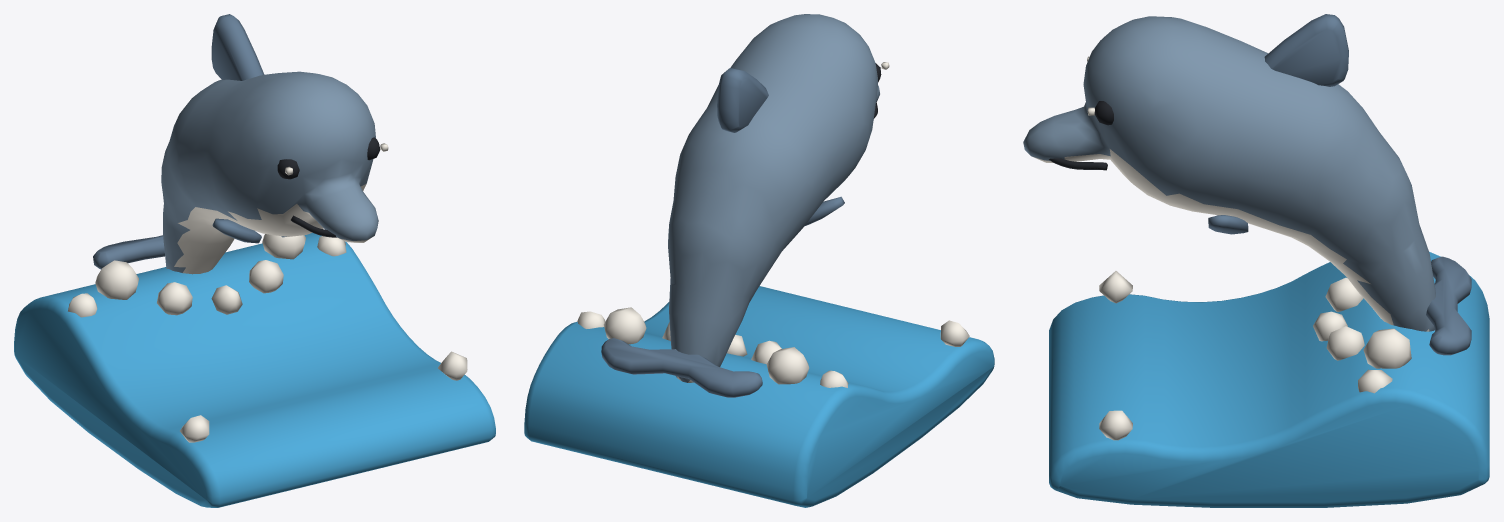
Rendered from jumping-dolphin-pet.glb.
3 views of the same model, side by side, from view 1: azimuth 30°, elevation 25°; view 2: azimuth 150°, elevation 25°; view 3: azimuth 270°, elevation 25° (orthographic). The views are drawn at different scales.
Visible parts, largest first — view 1: Wave_Base, Dolphin_Body, Wave_Foam, Dolphin_DorsalFin, Dolphin_Flukes, Dolphin_Flipper_L; view 2: Wave_Base, Dolphin_Body, Wave_Foam, Dolphin_Flukes, Dolphin_DorsalFin; view 3: Wave_Base, Dolphin_Body, Wave_Foam, Dolphin_DorsalFin, Dolphin_Flukes, Dolphin_Flipper_R.
Part boxes in pixels (box(x1,y1,x2,y2)): Wave_Base: box(14, 232, 495, 507); Dolphin_Body: box(161, 71, 378, 274); Wave_Foam: box(68, 234, 467, 442); Dolphin_DorsalFin: box(211, 14, 264, 80); Dolphin_Flukes: box(93, 235, 164, 269); Dolphin_Flipper_L: box(212, 218, 261, 243); Wave_Base: box(524, 286, 994, 507); Dolphin_Body: box(668, 14, 879, 382); Wave_Foam: box(577, 307, 969, 387); Dolphin_Flukes: box(601, 338, 762, 397); Dolphin_DorsalFin: box(717, 68, 768, 132); Wave_Base: box(1049, 251, 1489, 507); Dolphin_Body: box(1023, 16, 1435, 331); Wave_Foam: box(1099, 271, 1411, 440); Dolphin_DorsalFin: box(1264, 14, 1348, 86); Dolphin_Flukes: box(1426, 256, 1471, 355); Dolphin_Flipper_R: box(1208, 215, 1248, 234).
Bounding box in the file's own units: 2.05 × 2.6 × 2.62.
